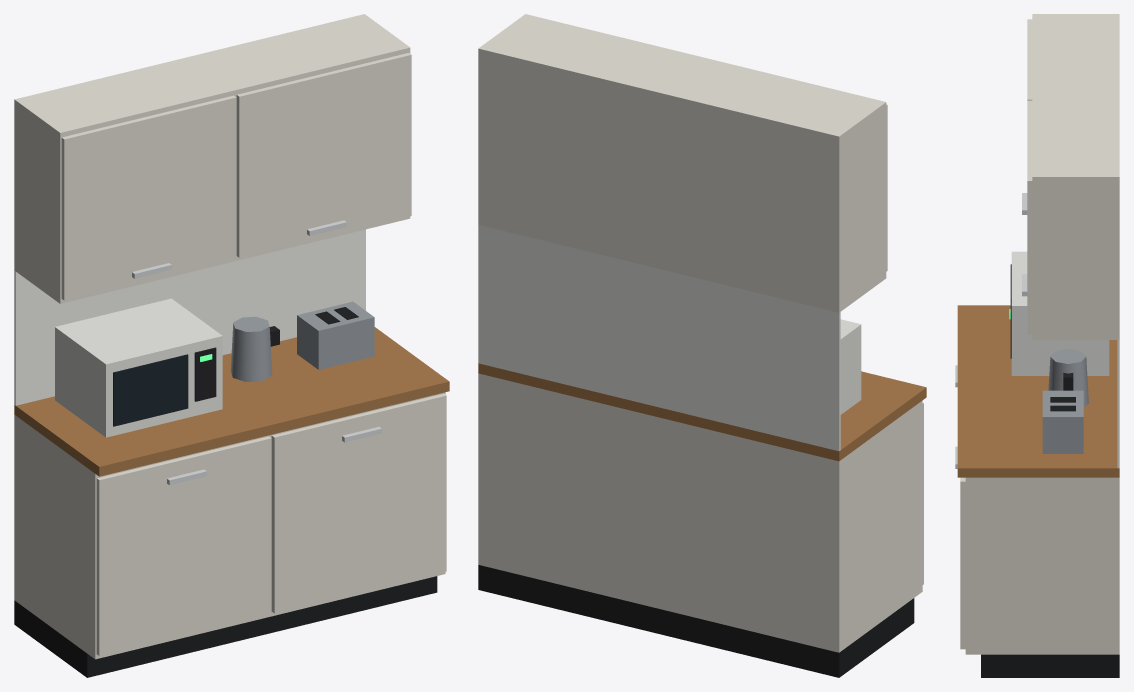
File: kitchen_counter.glb
The picture shows the model from 3 angles, left to right: view 1: azimuth 30°, elevation 25°; view 2: azimuth 150°, elevation 25°; view 3: azimuth 270°, elevation 25°; orthographic projection. The views are drawn at different scales.
Visible parts, largest first — view 1: kitchen_counter; view 2: kitchen_counter; view 3: kitchen_counter.
Boxes of the visible parts, x1,y1,x2,y2 form: kitchen_counter: (14, 14, 449, 677); kitchen_counter: (478, 14, 926, 677); kitchen_counter: (955, 14, 1119, 677).
Bounding box in the file's own units: 1.5 × 2.15 × 0.64.
Materials: 1 (1 with a texture image).
